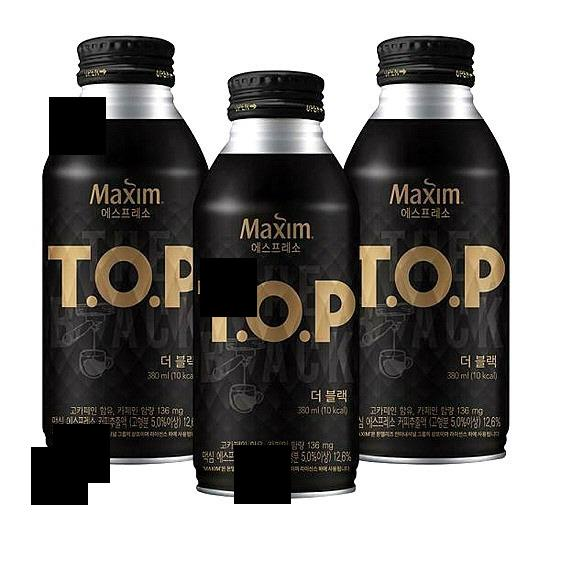TOP_black: (343, 32, 522, 467), (38, 29, 210, 471), (197, 65, 361, 502)
